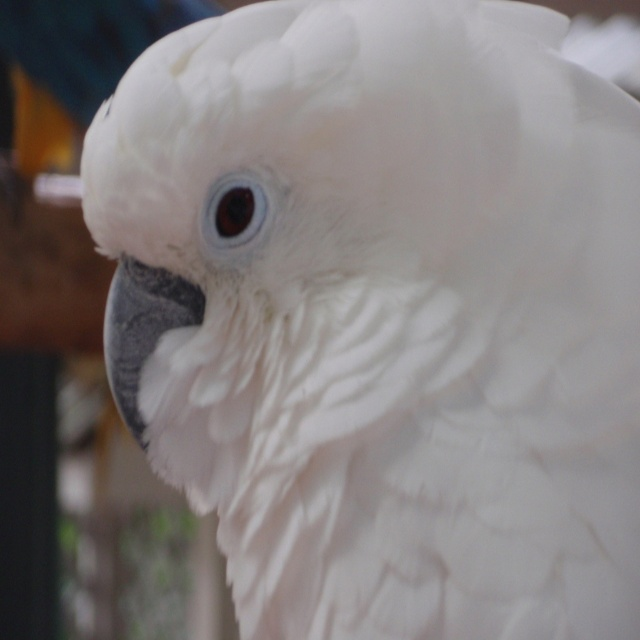Parrot: (79, 0, 639, 637)
